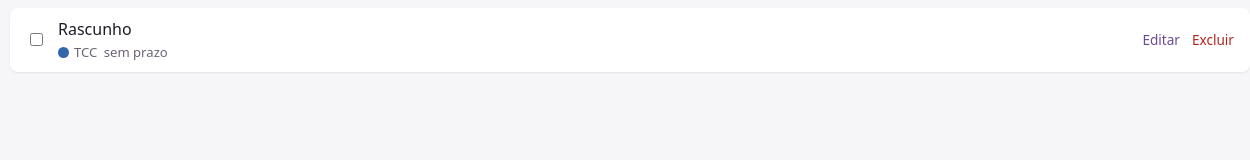
Test: TaskRow › mantém o editor aberto e mostra o erro se salvar falhar
The width and height of the screenshot is (1250, 160).
Click the button named "Editar \"Rascunho\"" at (1161, 40), box [1138,26,1184,54]
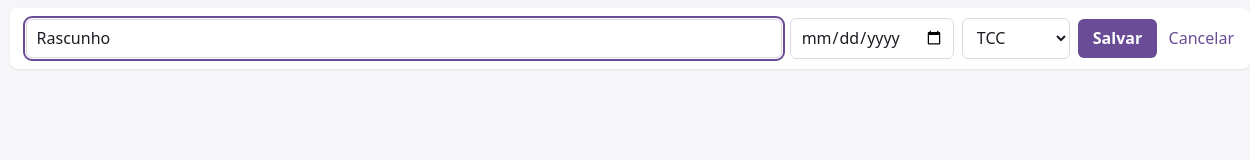
Click the button "Salvar" at (1118, 38), box [1078,19,1157,58]
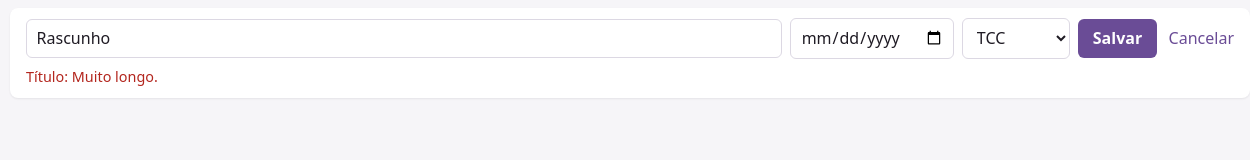
expect the button "Salvar" is shown: met, box [1078,19,1157,58]
expect the text "Título: Muito longo." is shown: met, box [26,67,158,86]
